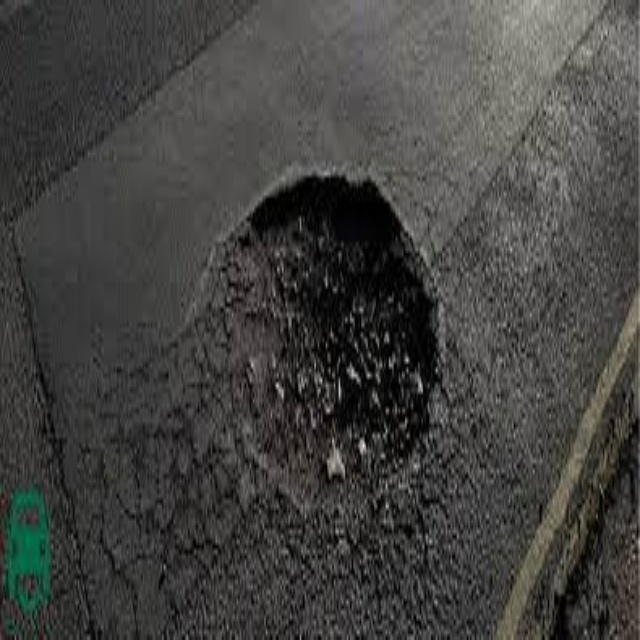pothole: (226, 175, 439, 492)
